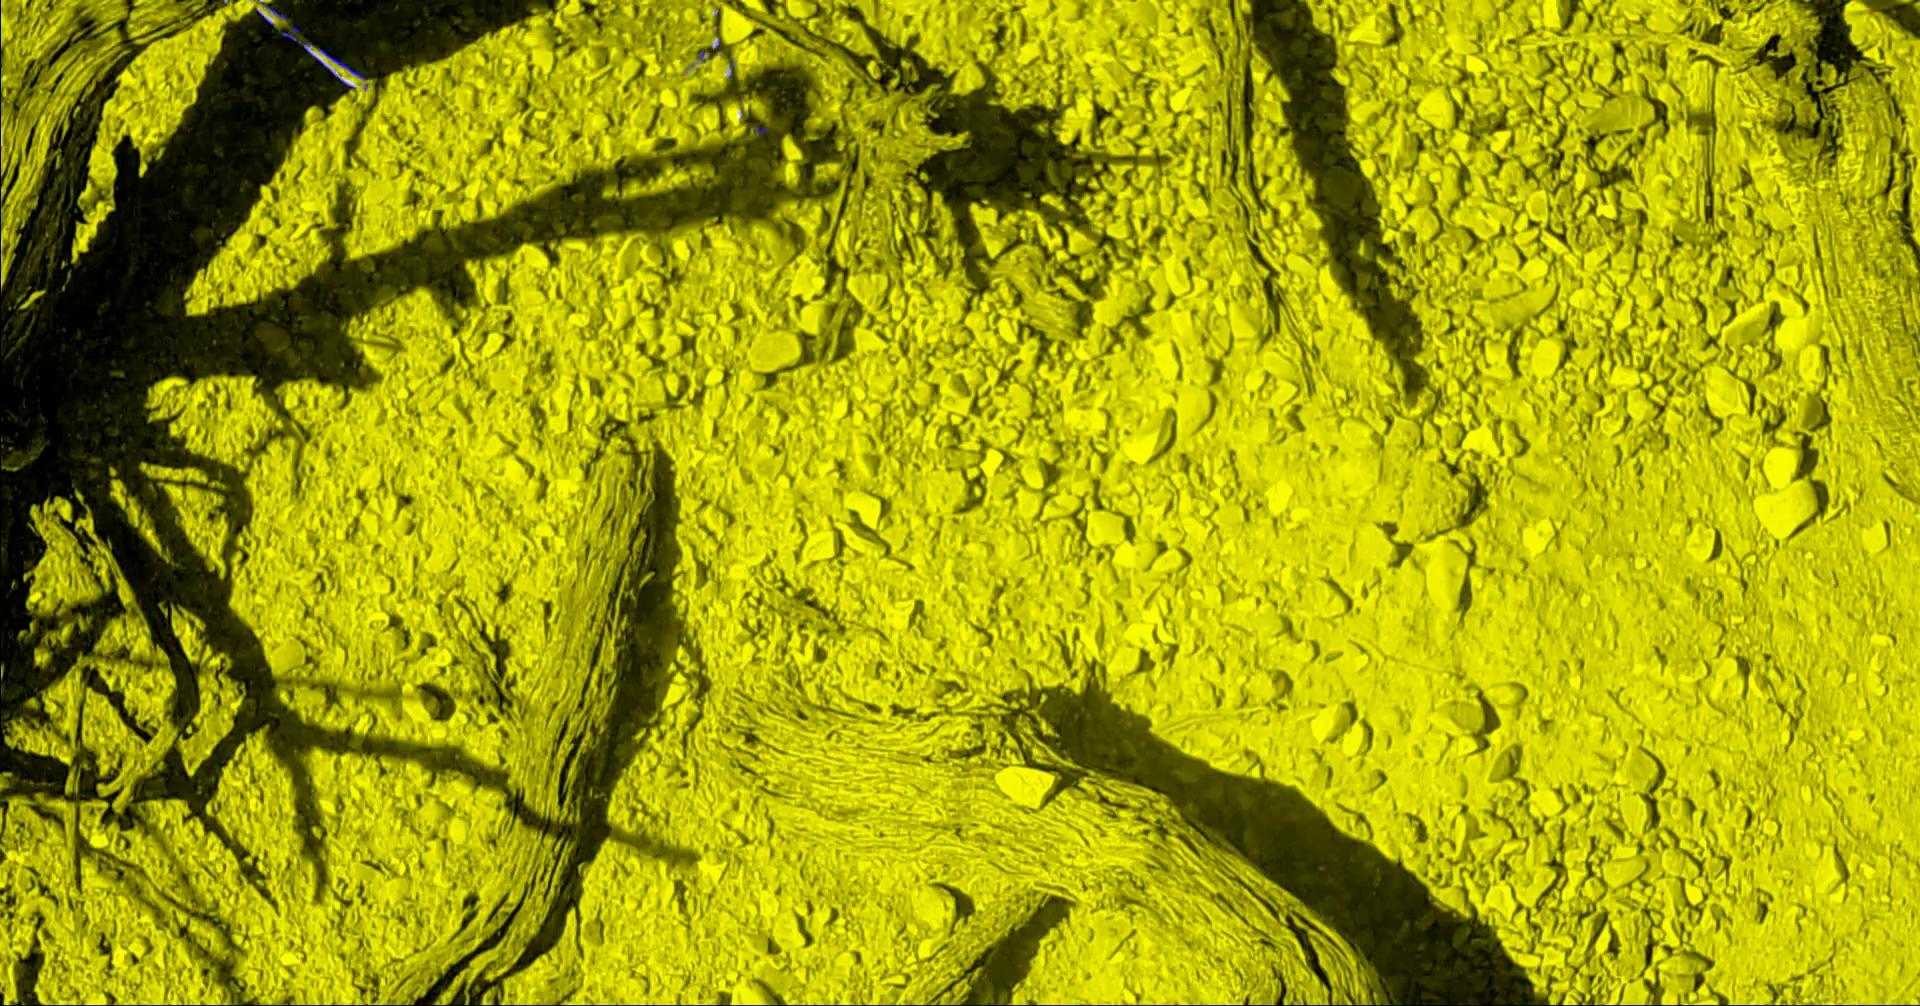ant: (302, 37, 353, 86), (316, 47, 364, 79), (281, 25, 301, 43)
